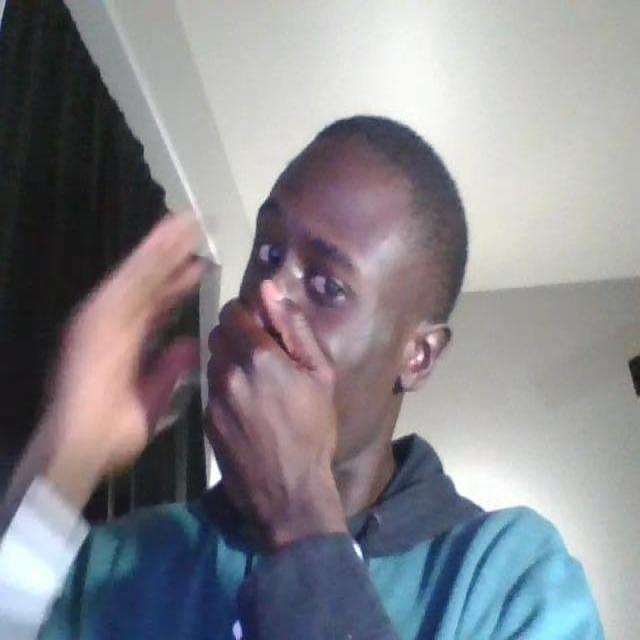no-helmet: (245, 163, 403, 464)
